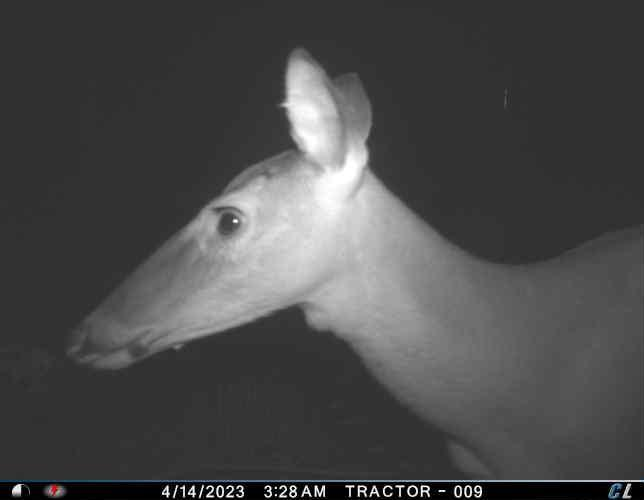Deer: (63, 40, 644, 480)
